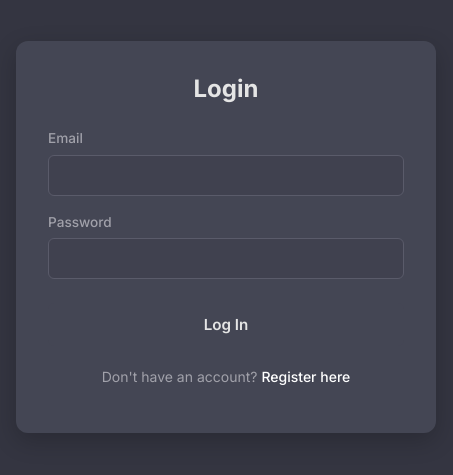
Login page › displays error message on failed login
Type "user@example.com" into the field labelled "Email" at [226, 175], box [48, 155, 404, 196]
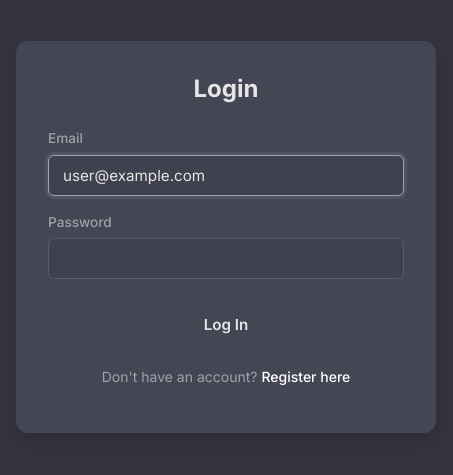
Type "wrongpass" into the password field labelled "Password" at [226, 258], box [48, 238, 404, 279]
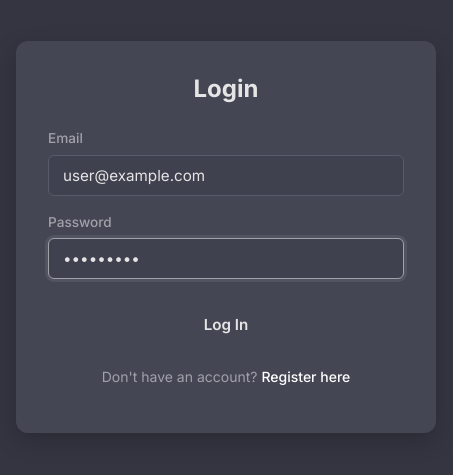
Click the button "Log In" at [226, 324], box [48, 303, 404, 346]
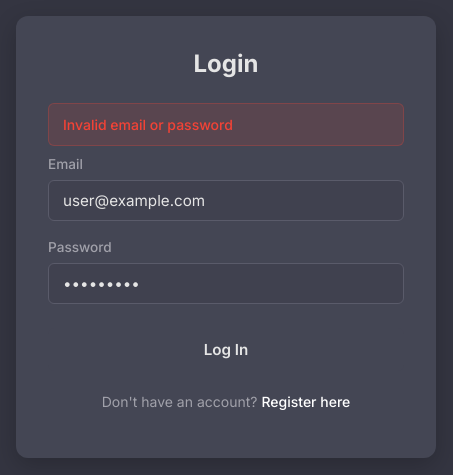
Expected: the text "Invalid email or password" is shown, [48, 103, 404, 146]
